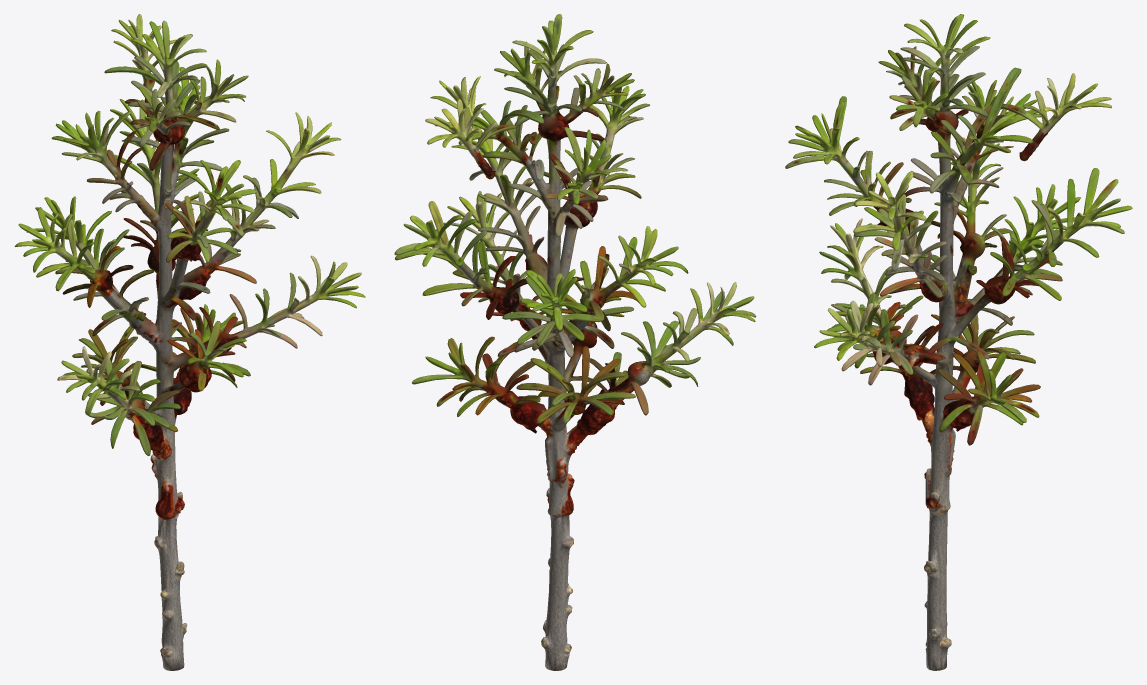
The model's file is moyao.glb.
The picture shows the model from 3 angles, left to right: view 1: azimuth 30°, elevation 25°; view 2: azimuth 150°, elevation 25°; view 3: azimuth 270°, elevation 25°; orthographic projection. The views are drawn at different scales.
Parts seen in each view (by area): view 1: node_0; view 2: node_0; view 3: node_0.
Part boxes in pixels (x1,y1,x2,y2): node_0: (14,14,365,670); node_0: (394,14,756,670); node_0: (785,14,1132,670).
Size of the model in its own units: 0.5846 by 1.2 by 0.5787.
Materials: 1 (1 with a texture image).
